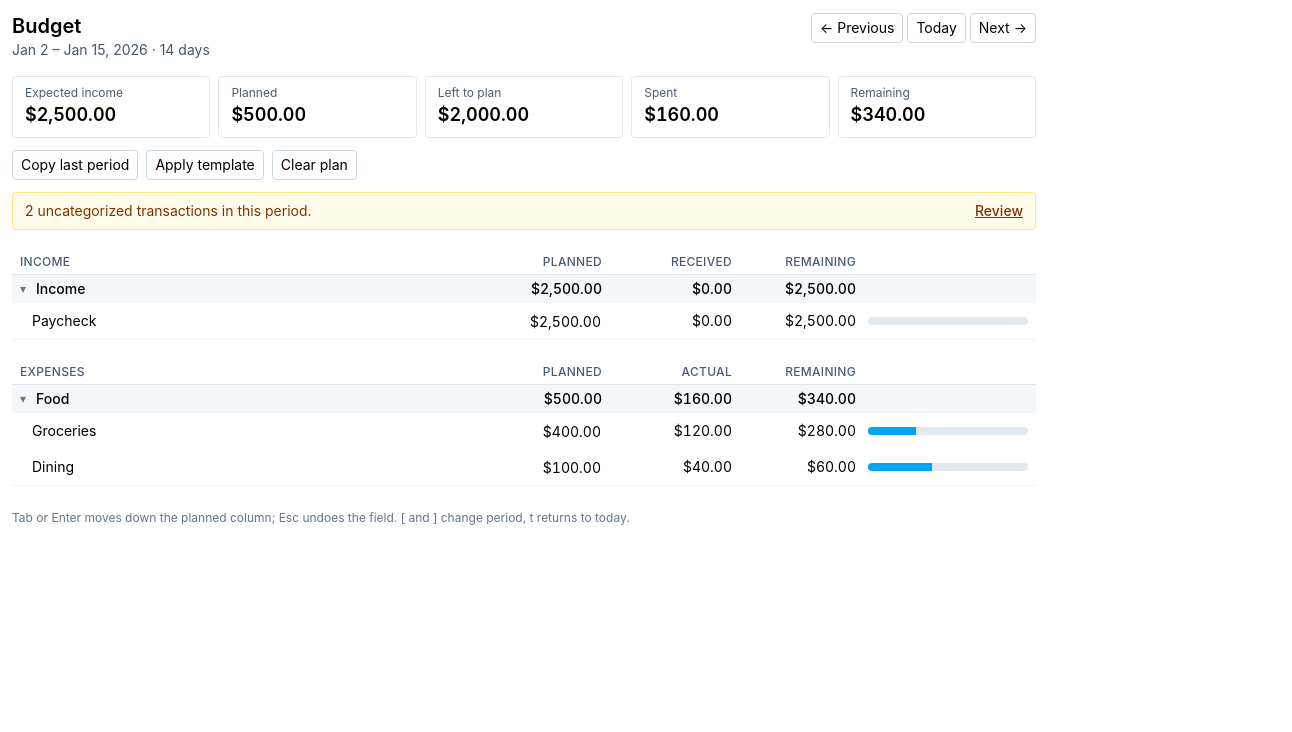
BudgetPage › a refused save rolls back and says why
The width and height of the screenshot is (1292, 732).
Expected: the text "$2,000.00" is shown, [438,104,529,125]
Click the field named "Planned for Dining" at {"x": 544, "y": 467}, box [480,453,608,481]
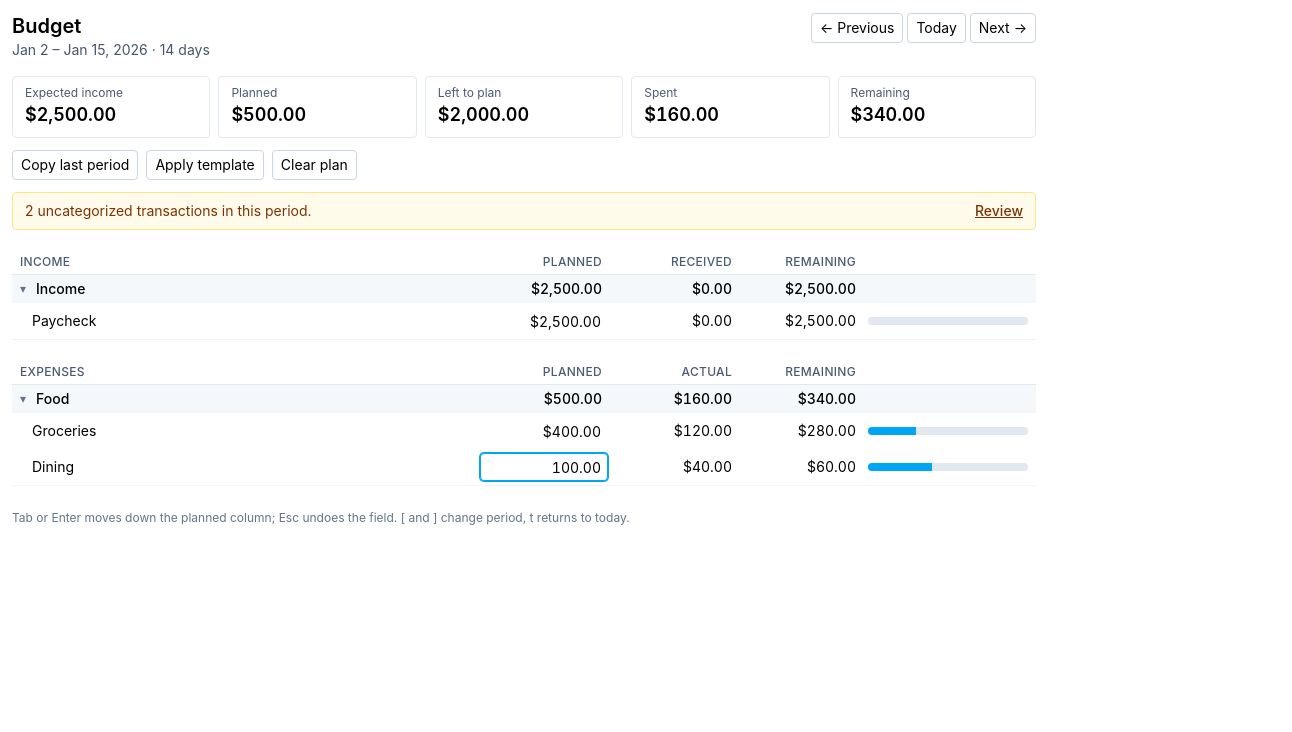
Type keys "1{Enter}"
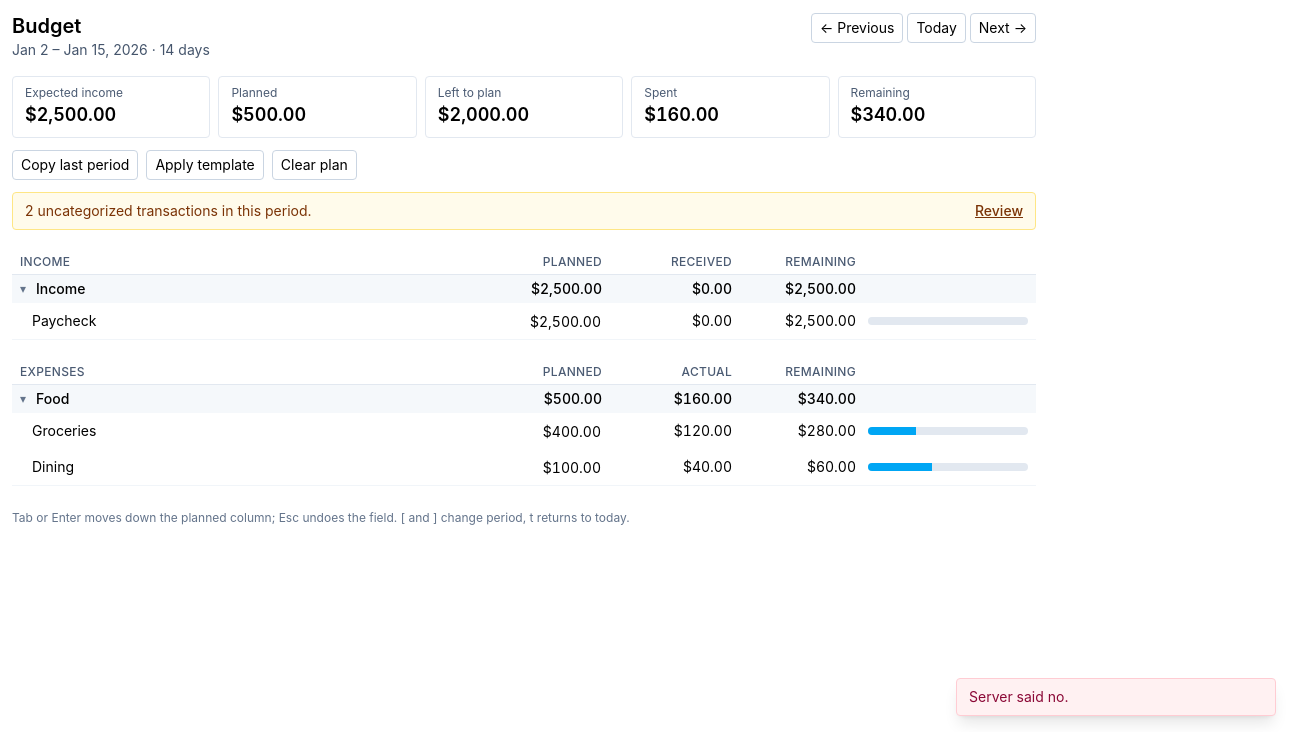
Expected: the text with test id "remaining-Dining" reads "$60.00", [807,458,856,475]
Expected: the text "Server said no." is shown, [969,687,1068,707]
